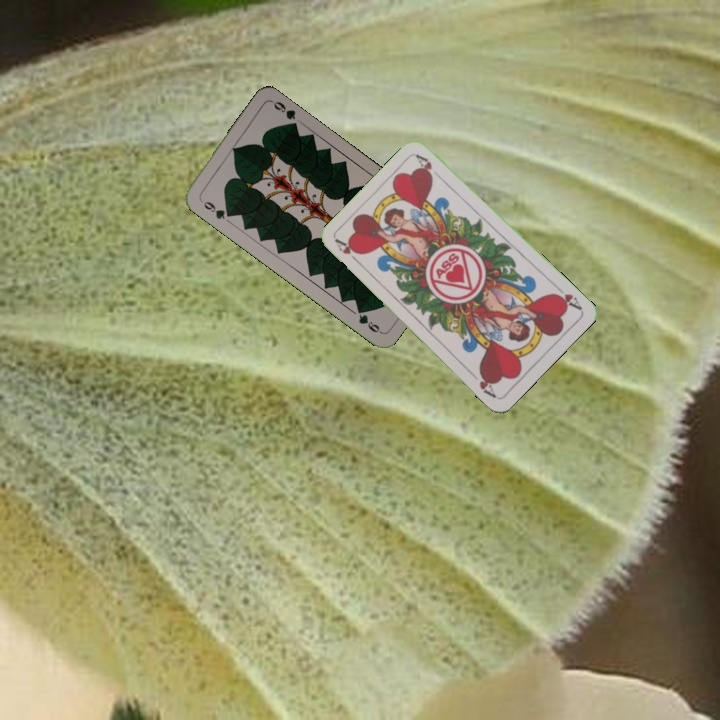G9: (196, 195, 234, 222)
HA: (549, 281, 584, 313), (332, 235, 365, 268)
